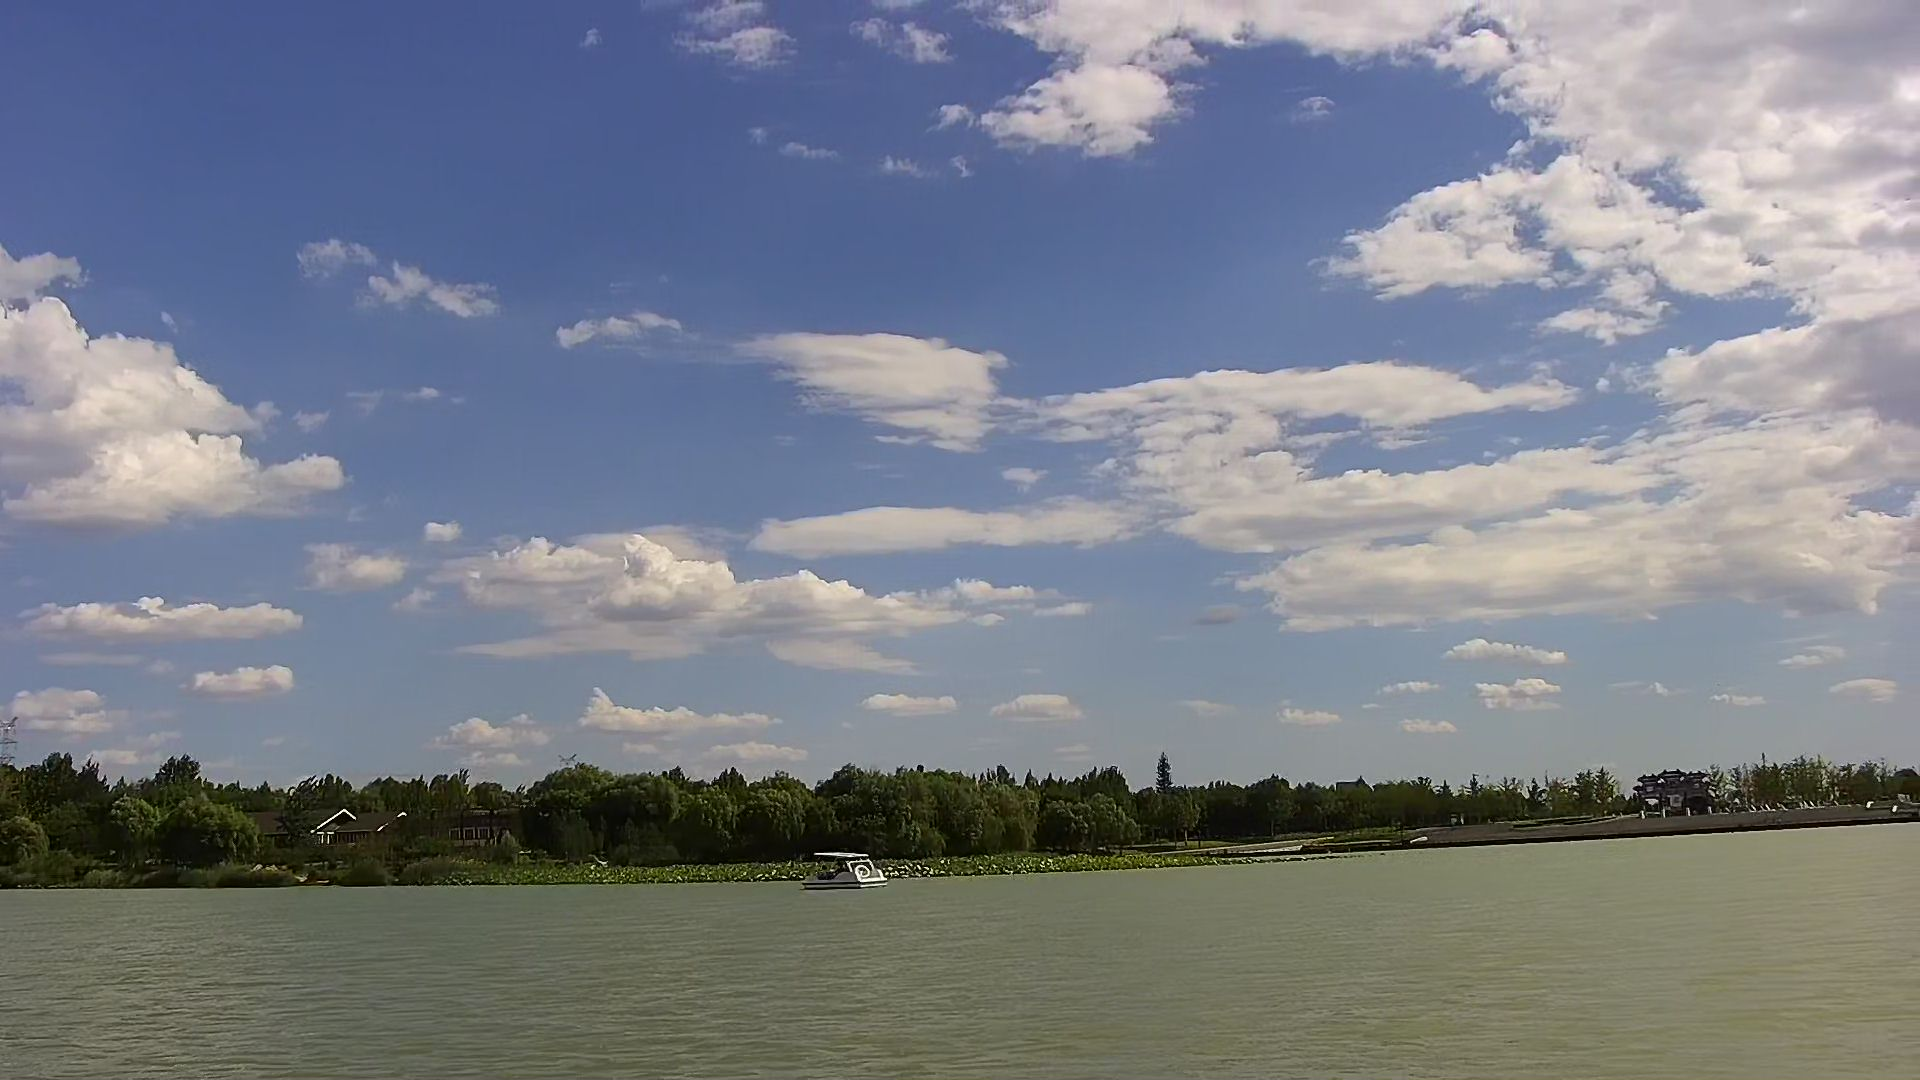boat: (803, 851, 891, 895)
